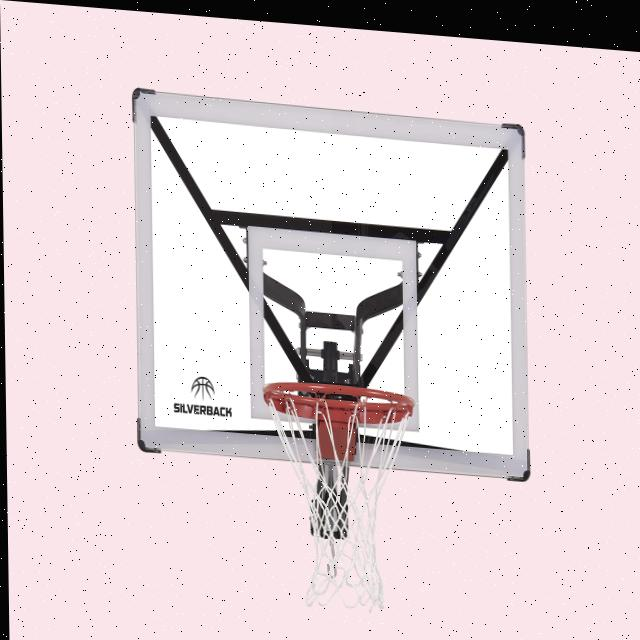hoop: (263, 379, 418, 616)
